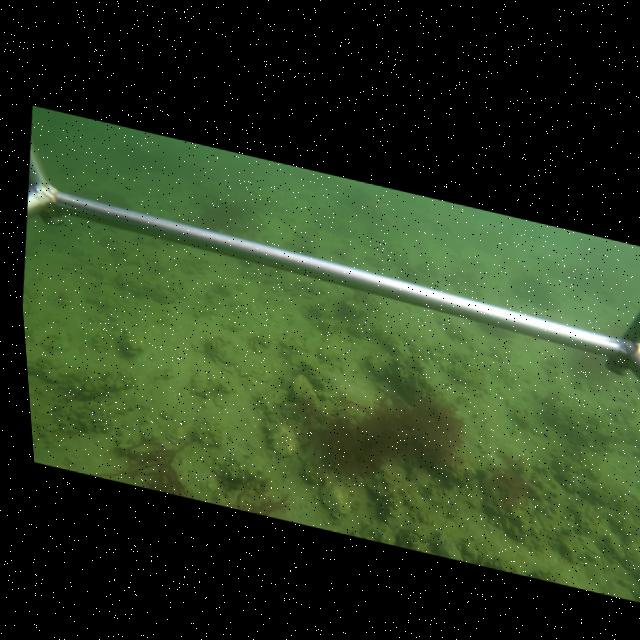Oyster-Indeterminate: (318, 475, 354, 518), (266, 422, 303, 459)
Oyster-Open: (285, 374, 319, 404)
